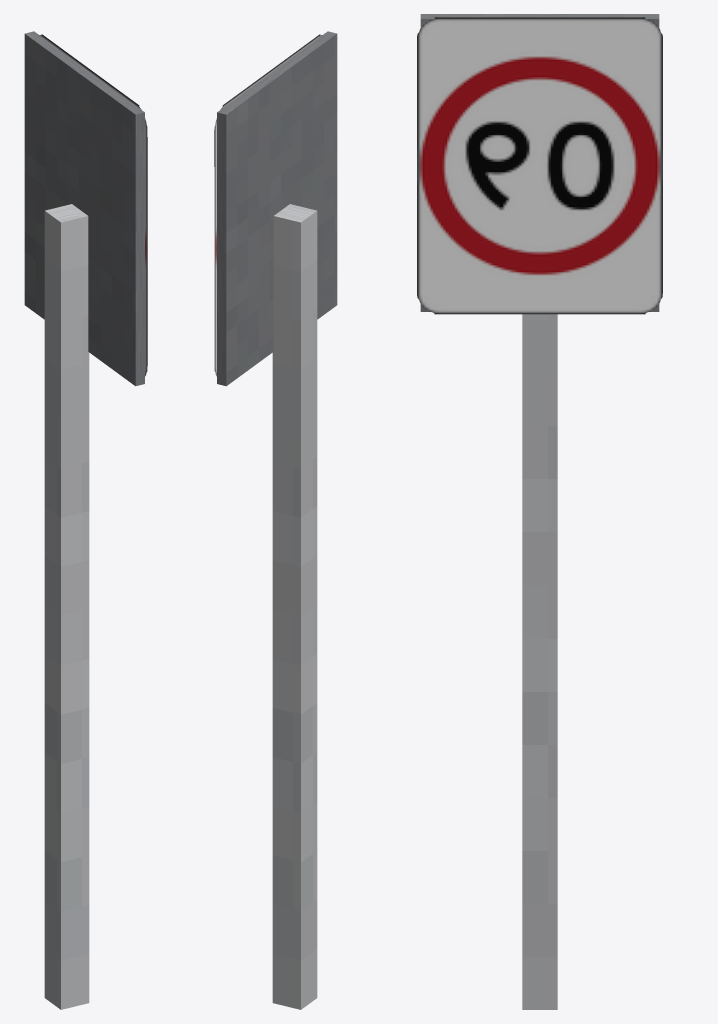
File: signspeed.obj
3 renders of one model, left to right at view 1: azimuth 30°, elevation 25°; view 2: azimuth 150°, elevation 25°; view 3: azimuth 270°, elevation 25°, orthographic. The views are drawn at different scales.
Visible parts, largest first — view 1: cube, plane; view 2: cube, plane; view 3: plane, cube.
Part boxes in pixels (x1,y1,x2,y2): cube: (24,31,144,1009); plane: (39,34,147,376); cube: (217,31,337,1009); plane: (214,34,322,376); plane: (417,17,662,314); cube: (420,14,659,1009).
Bounding box in the file's own units: 0.125 × 2.94 × 0.875.
Materials: 3 (3 with a texture image).
